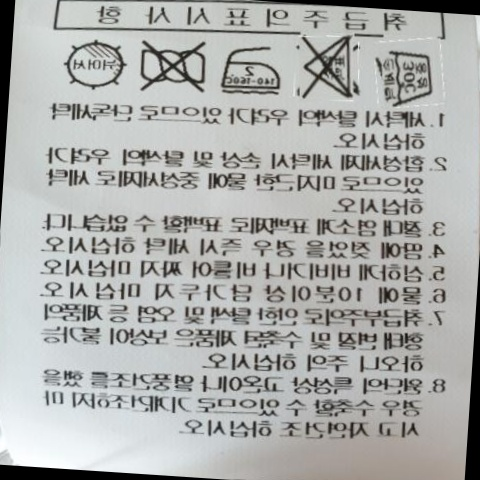DN_wring: (127, 35, 212, 98)
dry_flat_in_shade: (56, 36, 127, 92)
hand_wash: (364, 39, 438, 110)
iron_medium: (216, 44, 283, 97)
non_chlorine_bleach: (293, 34, 363, 106)
